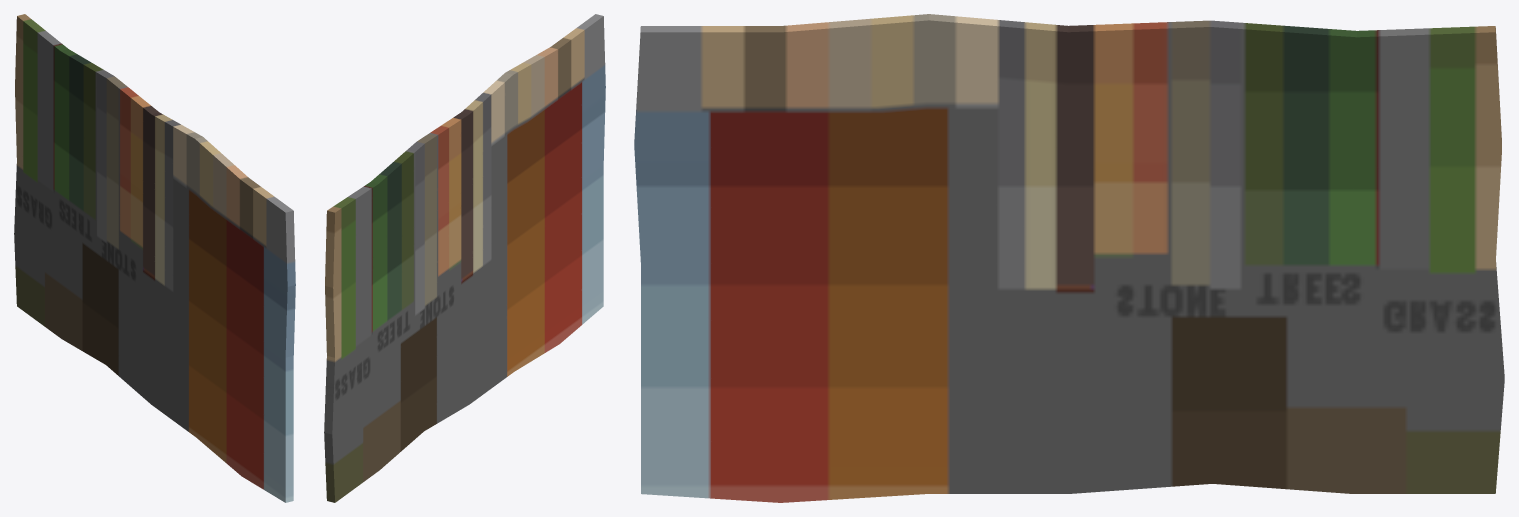
The model's file is SM_Flag_Pirate_04.glb.
3 renders of one model, left to right at view 1: azimuth 30°, elevation 25°; view 2: azimuth 150°, elevation 25°; view 3: azimuth 270°, elevation 25°, orthographic. The views are drawn at different scales.
Parts seen in each view (by area): view 1: SM_Flag_Pirate_04_00; view 2: SM_Flag_Pirate_04_00; view 3: SM_Flag_Pirate_04_00.
Part boxes in pixels (x1,y1,x2,y2): SM_Flag_Pirate_04_00: (14, 14, 295, 502); SM_Flag_Pirate_04_00: (324, 14, 605, 502); SM_Flag_Pirate_04_00: (634, 14, 1504, 502).
Bounding box in the file's own units: 0.0403 × 1.42 × 2.32.
Materials: 1 (1 with a texture image).
